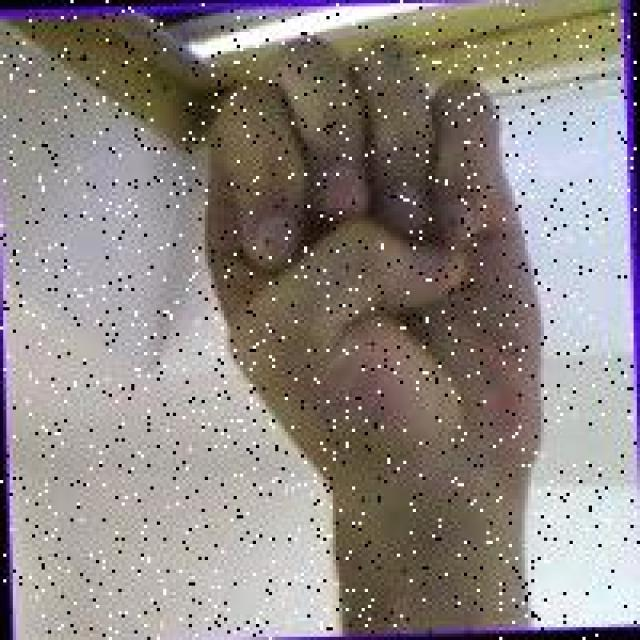E: (189, 18, 550, 580)
